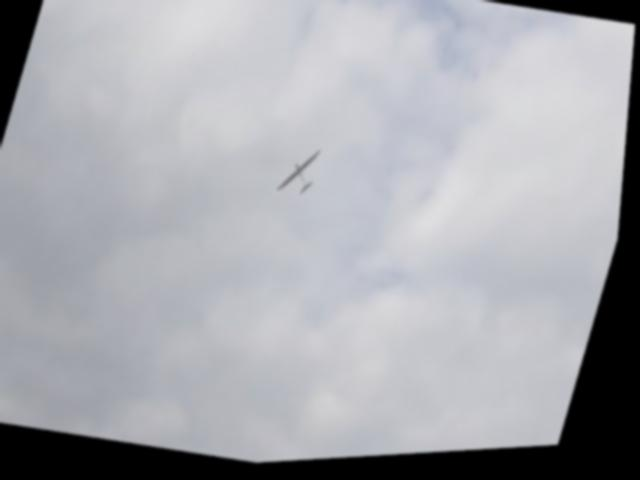uav: (271, 139, 333, 216)
